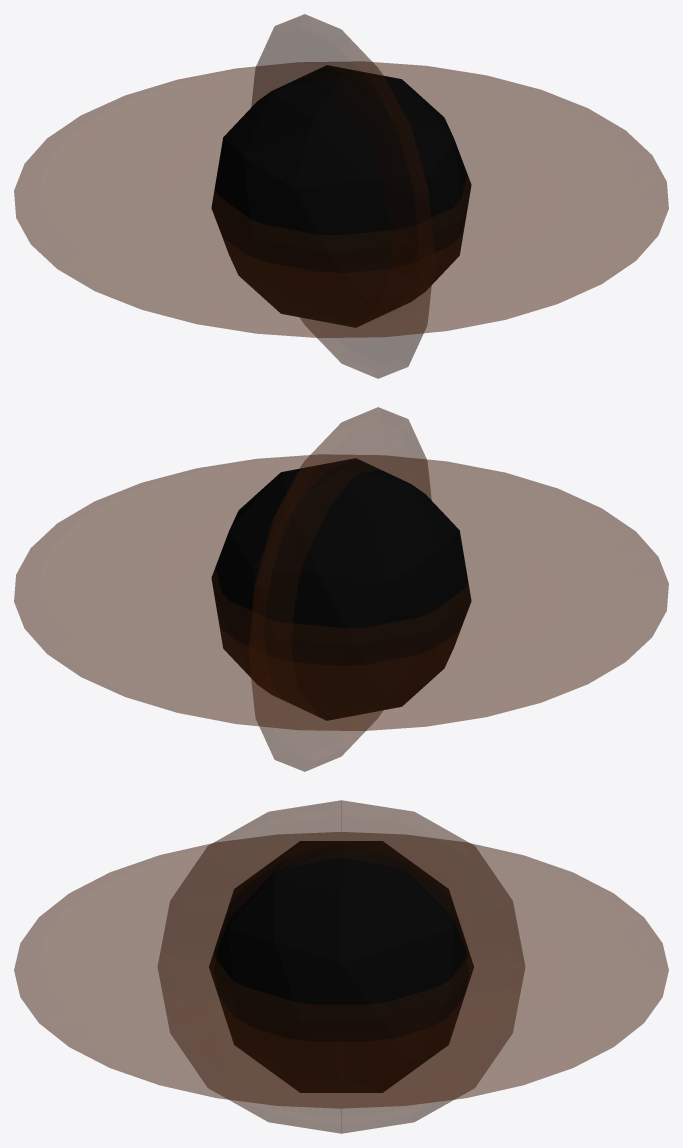
File: AgujeroNegro.obj
3 views of the same model, one above another, from view 1: azimuth 30°, elevation 25°; view 2: azimuth 150°, elevation 25°; view 3: azimuth 270°, elevation 25° (orthographic).
Parts seen in each view (by area): view 1: Circle, Icosphere, Cube; view 2: Circle, Icosphere, Cube; view 3: Circle, Icosphere, Cube.
Boxes of the visible parts, x1,y1,x2,y2 form: Circle: (14,61,668,337); Icosphere: (211,65,471,327); Cube: (251,14,434,378); Circle: (14,454,668,730); Icosphere: (211,458,471,720); Cube: (248,407,431,771); Circle: (14,832,668,1108); Icosphere: (209,841,473,1092); Cube: (158,800,524,1133).
Bounding box in the file's own units: 20.31 × 11.41 × 20.31.
